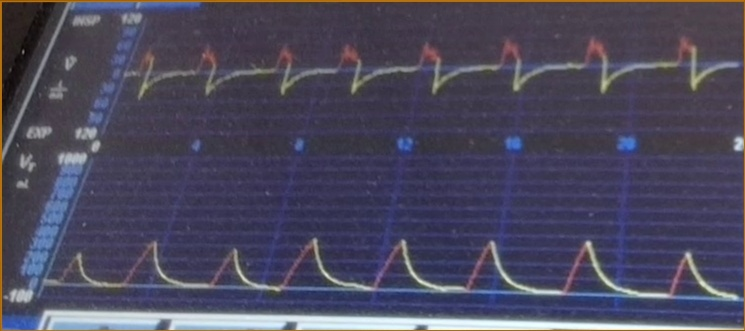Accumulation Flow: (137, 29, 719, 131)
Volume: (63, 220, 734, 309)
